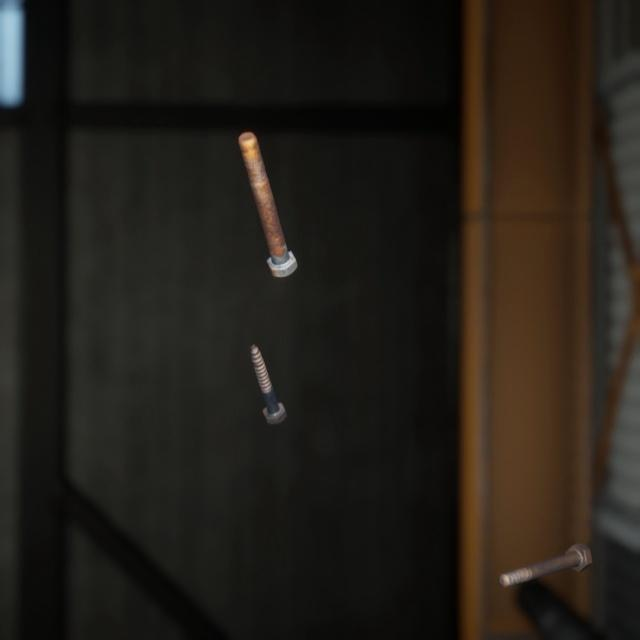bolt: (234, 111, 302, 266), (493, 516, 596, 569), (246, 320, 291, 409)
